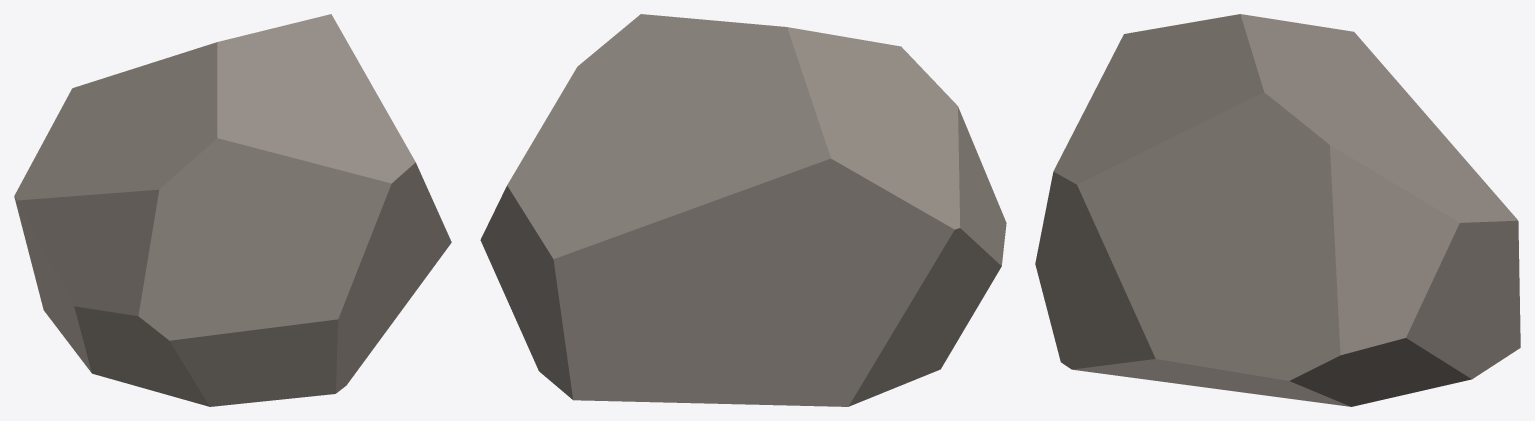
Rendered from boulder4.fbx.
The picture shows the model from 3 angles, left to right: view 1: azimuth 30°, elevation 25°; view 2: azimuth 150°, elevation 25°; view 3: azimuth 270°, elevation 25°; orthographic projection. The views are drawn at different scales.
Parts seen in each view (by area): view 1: Boulder4; view 2: Boulder4; view 3: Boulder4.
Boxes of the visible parts, bbox=[...] form: Boulder4: bbox=[14, 14, 451, 406]; Boulder4: bbox=[480, 14, 1006, 406]; Boulder4: bbox=[1035, 14, 1520, 406].
Bounding box in the file's own units: 0.8101 × 0.5717 × 0.7651.
